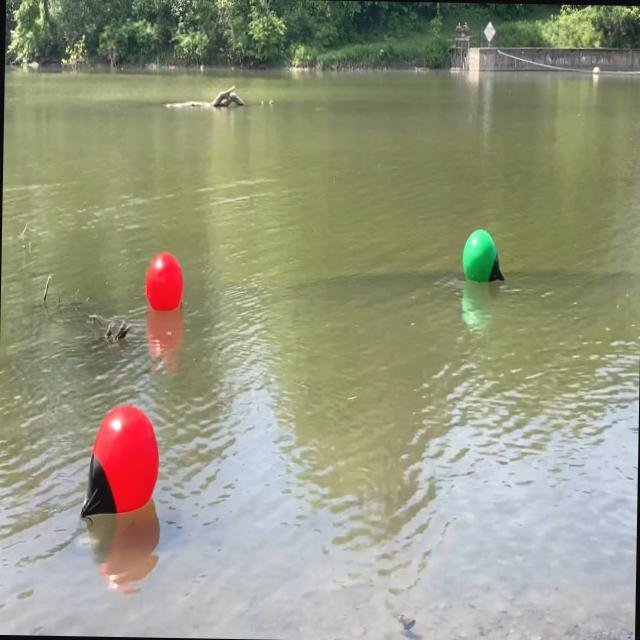buoy: (78, 402, 160, 522), (460, 227, 504, 284), (144, 249, 183, 313)
